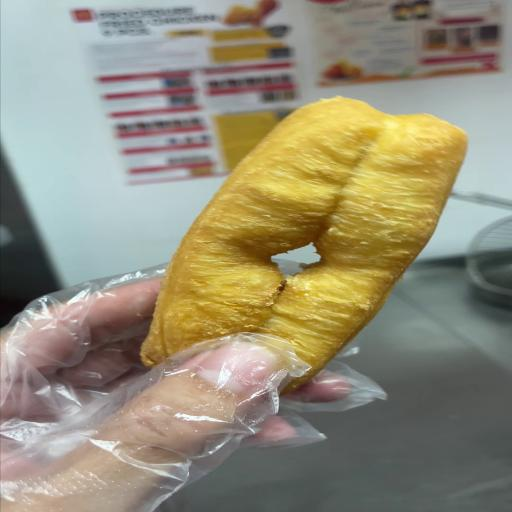brand_golden_defect: (141, 97, 466, 374)
